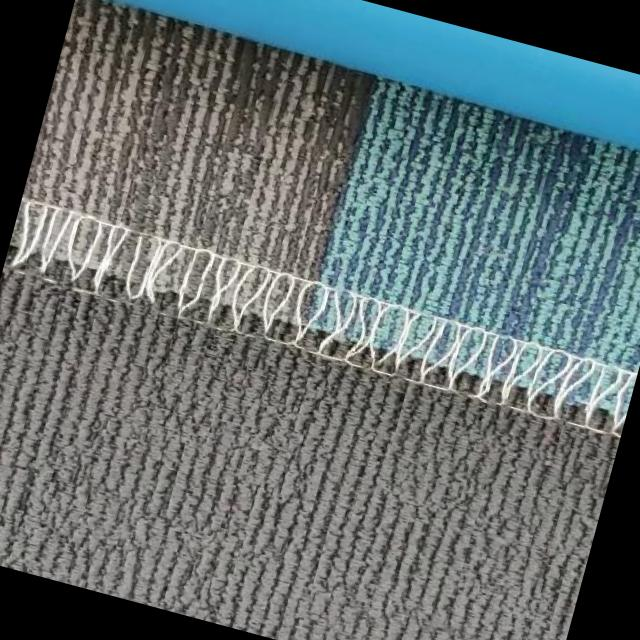gray stitch: (2, 190, 640, 444)
